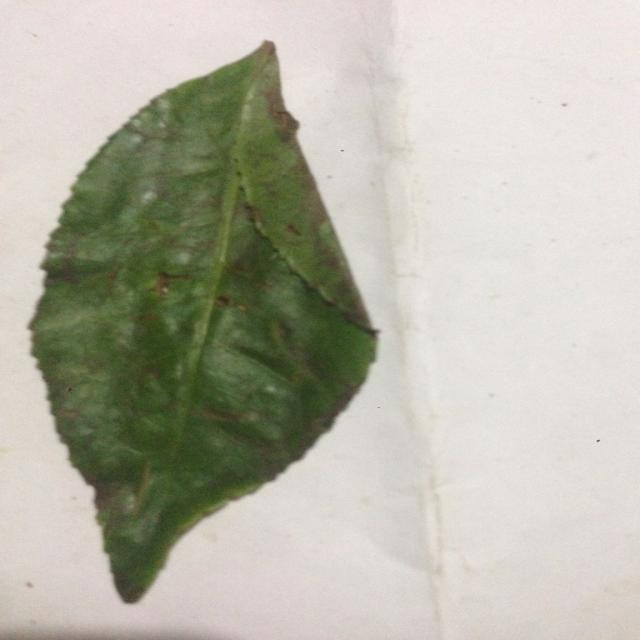Red Leaf Spot: (18, 36, 382, 608)
